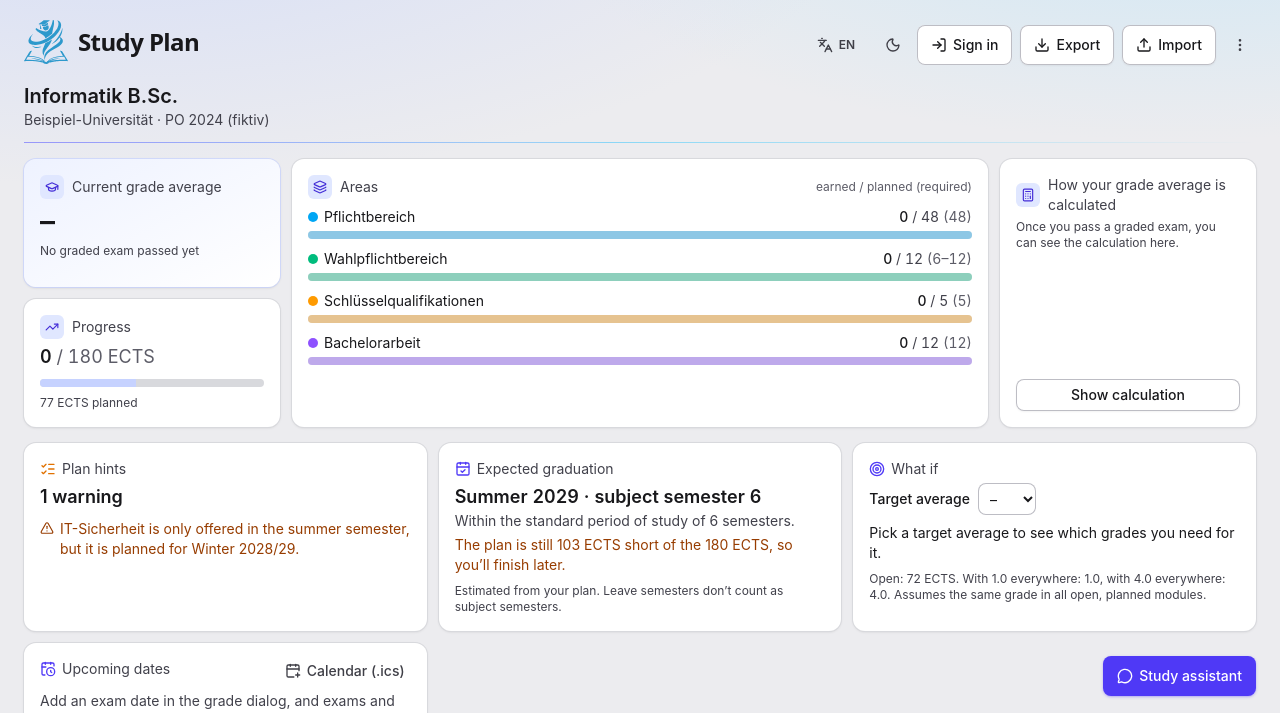
Test: dialogs in English › explains in English that sharing needs an account
Step 1. Click the button named "More actions" → (1240,45), box [1224, 29, 1256, 61]
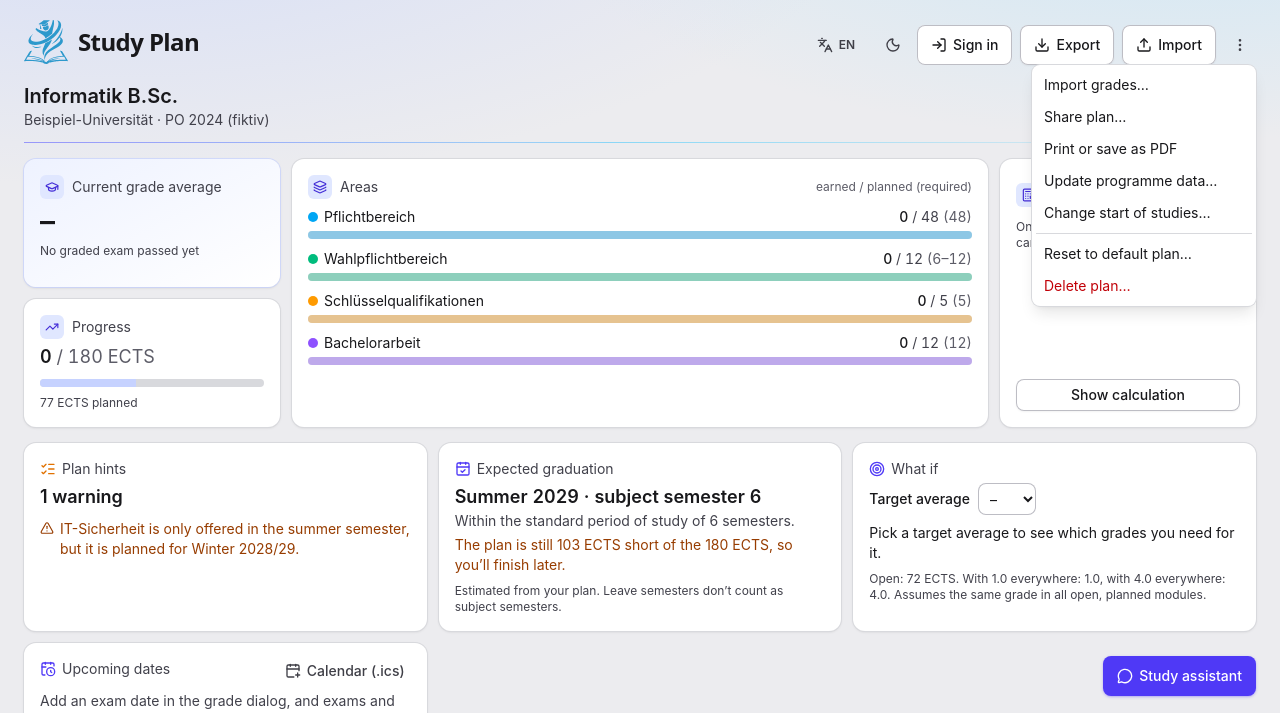
Step 2. Click the menu item "Share plan…" → (1085,116), box [1044, 108, 1126, 125]
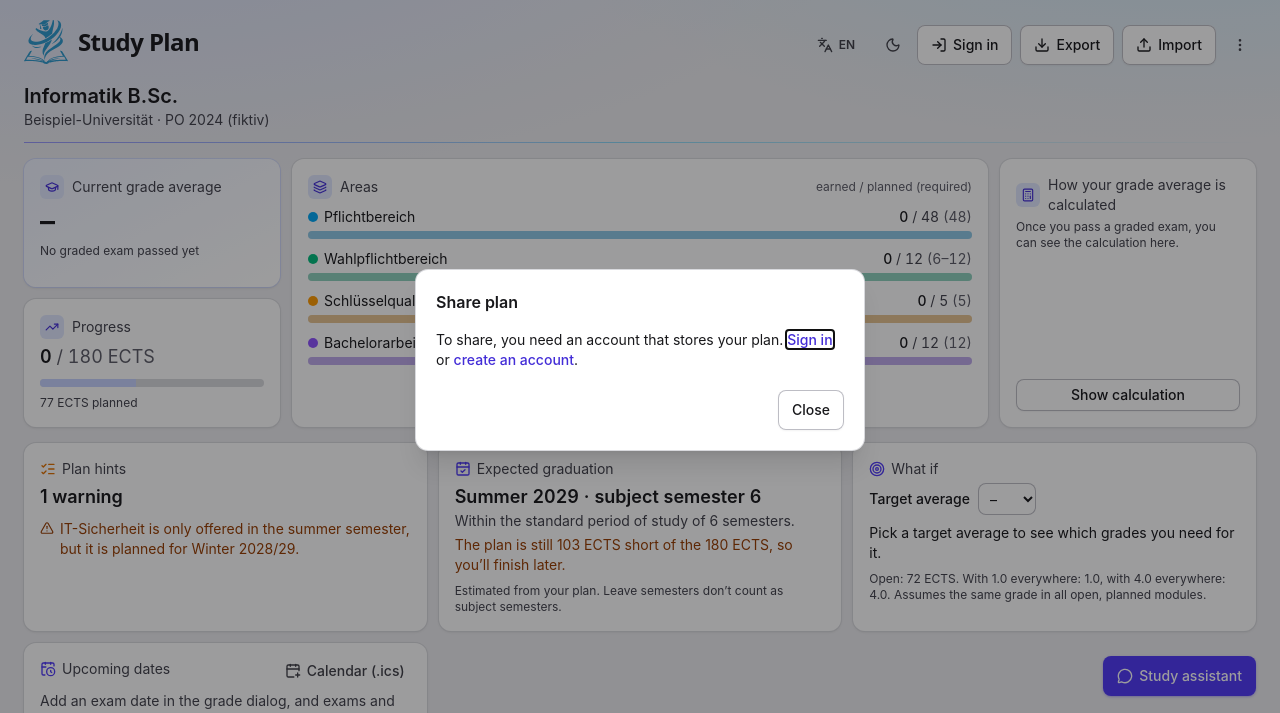
Expected: the dialog "Share plan" shows "To share, you need an account that stores your plan. Sign in or create an account.", [416, 270, 864, 450]
